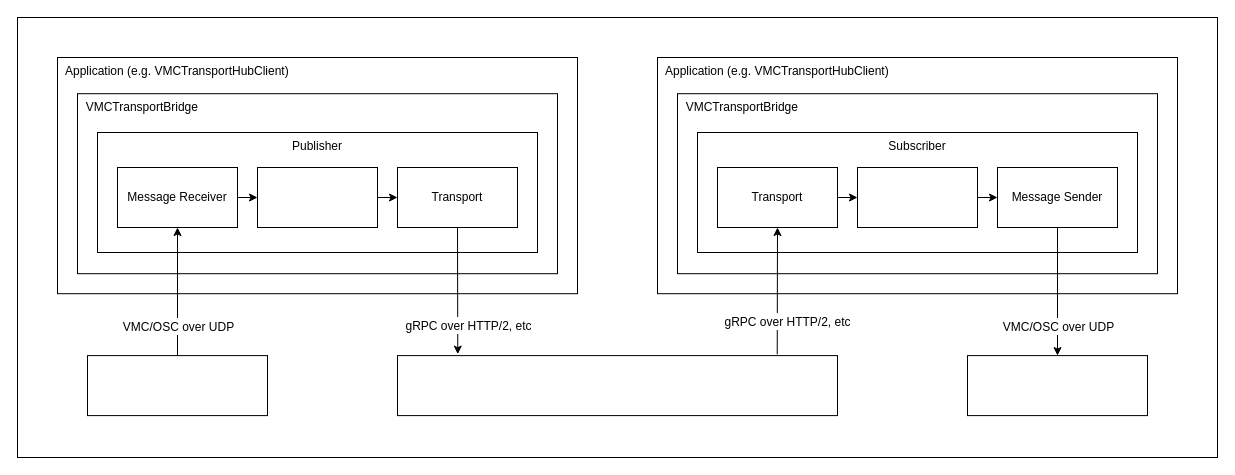
This 1235x475 diagram has some shape labels left out. Here are the shapes that lost their labels. From the top down, the centre of each, then its label:
point 317,197: Message Serializer (Serialization)
point 917,197: Message Serializer (Deserialization)
point 177,385: VMC Protocol Application (Sender)
point 617,385: Server
point 1057,385: VMC Protocol Application (Receiver)
